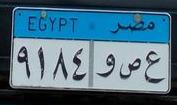1: (36, 46, 46, 79)
4: (70, 48, 86, 80)
8: (52, 47, 67, 80)
9: (17, 46, 29, 76)
ain: (143, 51, 163, 84)
saad: (119, 56, 141, 79)
waw: (95, 54, 116, 78)
